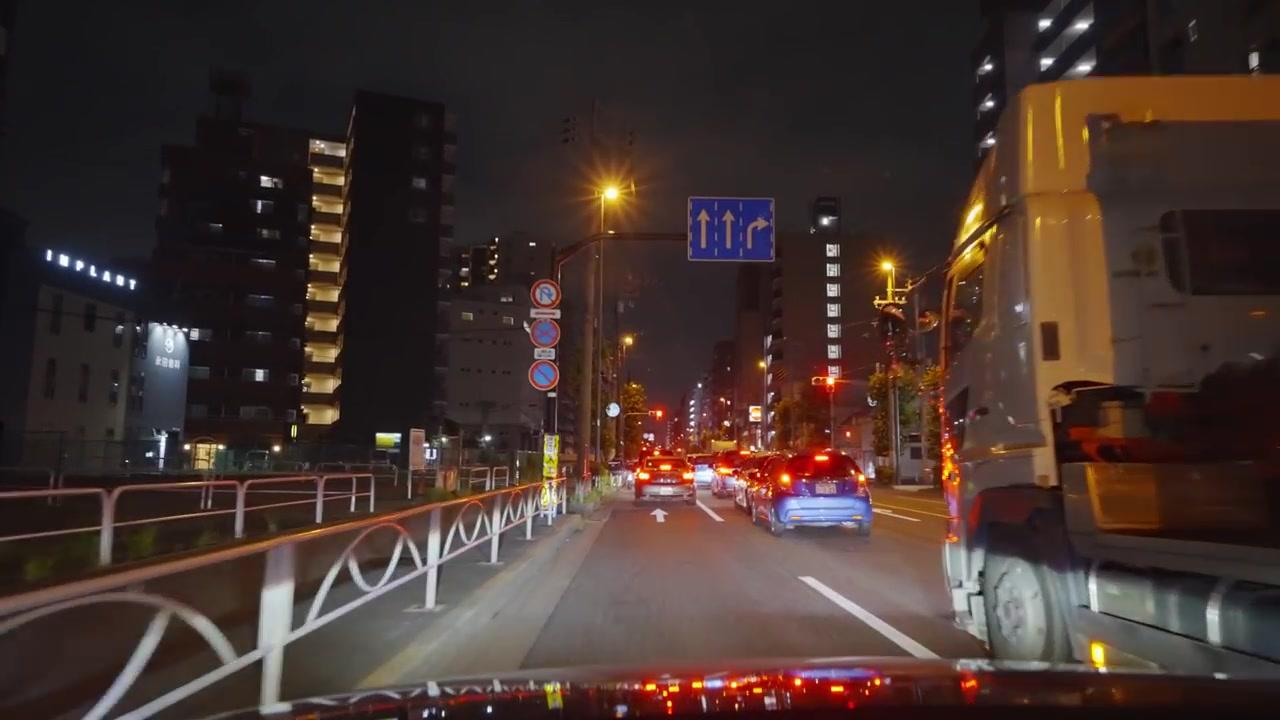car: (748, 450, 873, 538), (633, 455, 697, 505), (731, 454, 780, 508), (711, 455, 748, 501), (693, 461, 716, 489)
traffic light: (456, 247, 473, 289), (485, 240, 500, 283), (653, 409, 665, 422)
truck: (893, 76, 1279, 673)
